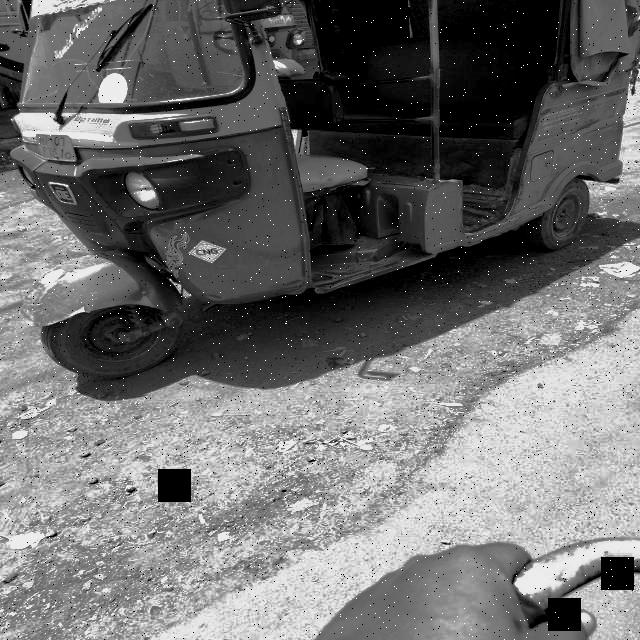Auto-Rickshaw: (7, 0, 640, 396)
